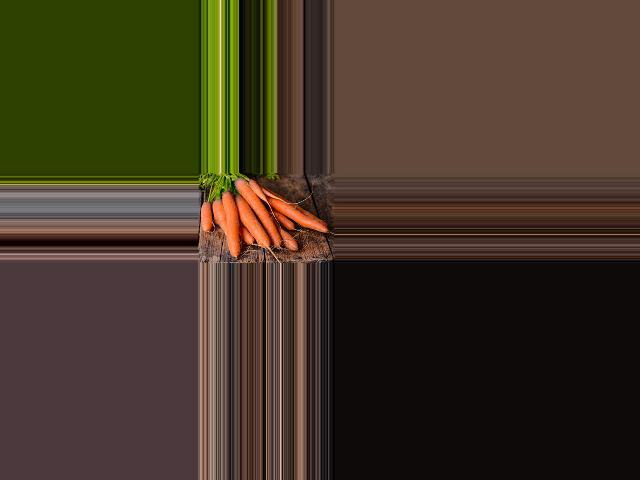carrot: (267, 197, 326, 235)
